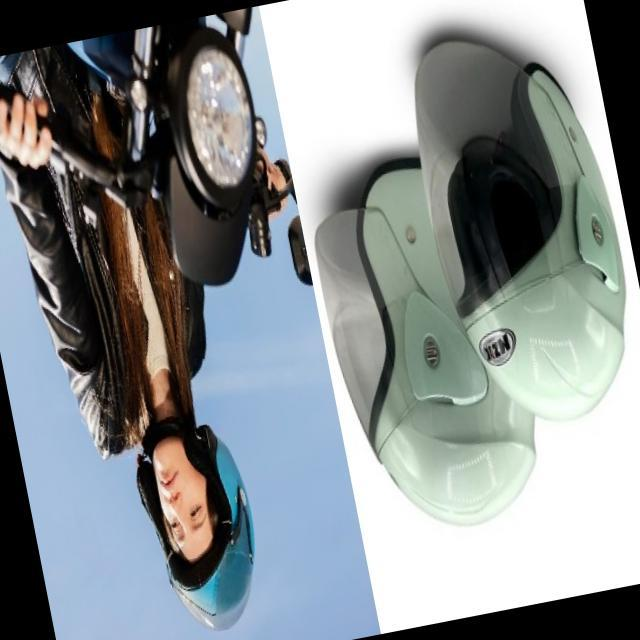Helm: (296, 133, 556, 552), (393, 11, 640, 450), (120, 393, 280, 640)
